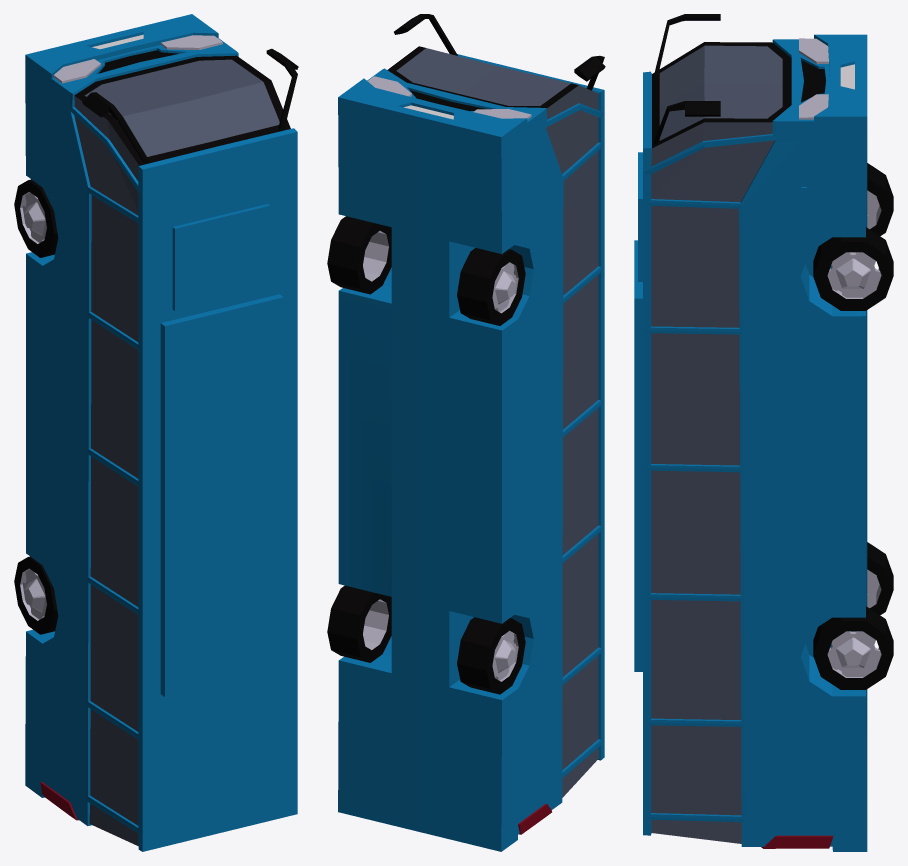
File: Bus.glb
3 views of the same model, side by side, from view 1: azimuth 30°, elevation 25°; view 2: azimuth 150°, elevation 25°; view 3: azimuth 270°, elevation 25° (orthographic). The views are drawn at different scales.
Visible parts, largest first — view 1: Mesh_0; view 2: Mesh_0; view 3: Mesh_0.
Boxes of the visible parts, x1,y1,x2,y2 form: Mesh_0: (14, 14, 298, 851); Mesh_0: (327, 14, 605, 851); Mesh_0: (634, 14, 893, 851).
Size of the model in its own units: 3.81 by 13.7 by 4.27.
